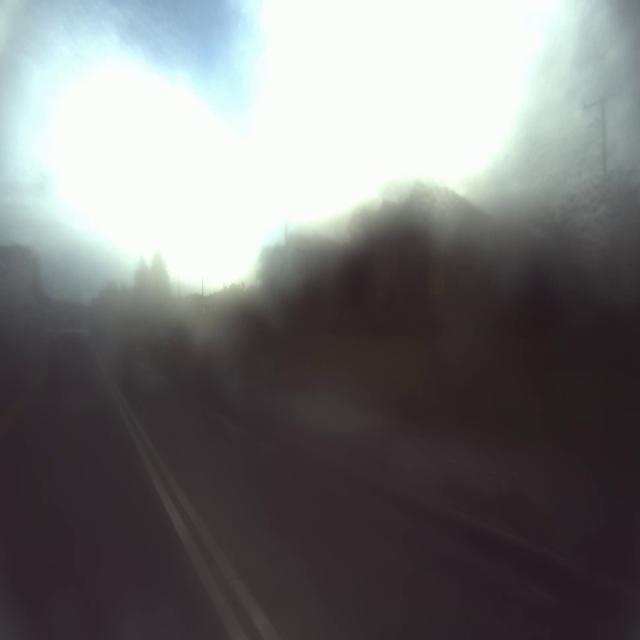car: (50, 319, 106, 390)
